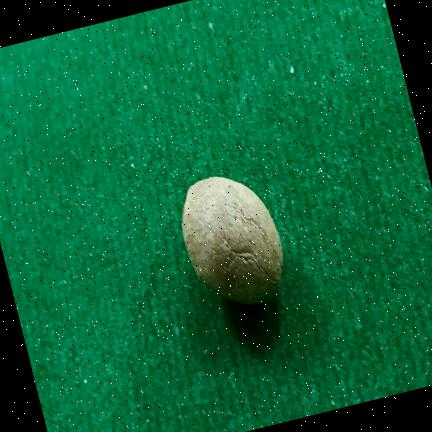good: (182, 176, 283, 304)
